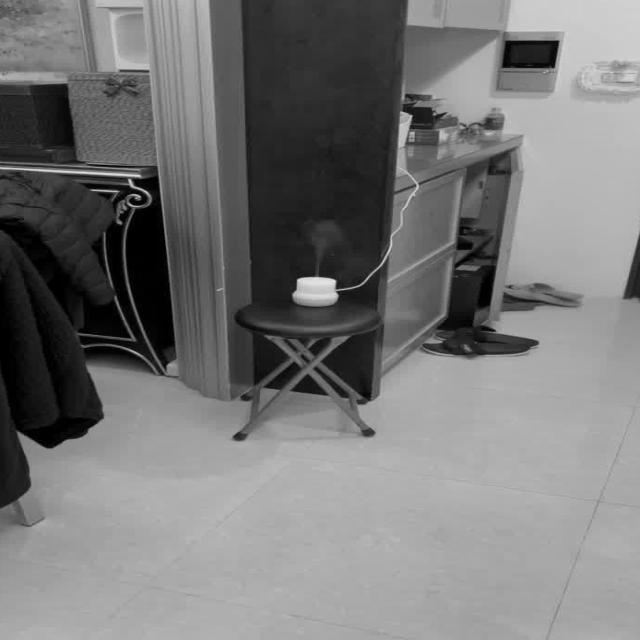fire: (298, 220, 352, 270)
